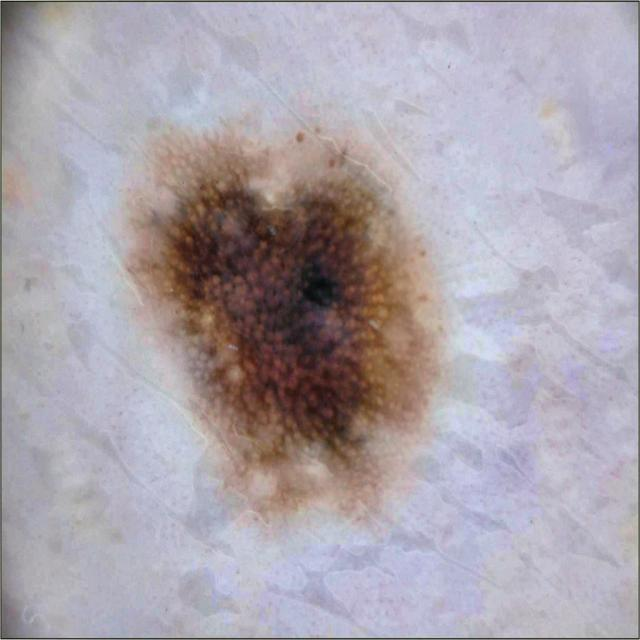Melanocytic-Nevi-NV-: (128, 130, 438, 505)
